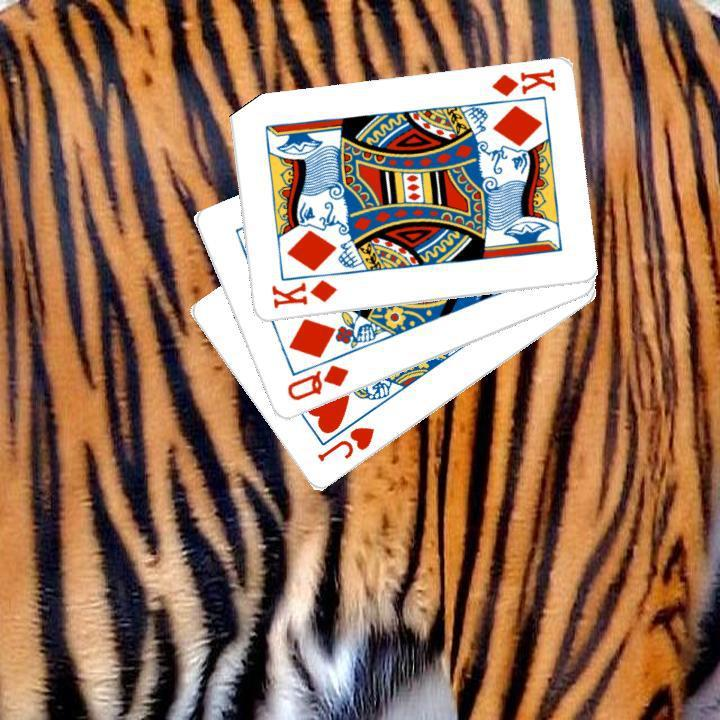J: (312, 423, 376, 465)
K: (266, 275, 339, 311), (487, 65, 557, 99)
Q: (282, 361, 351, 404)
